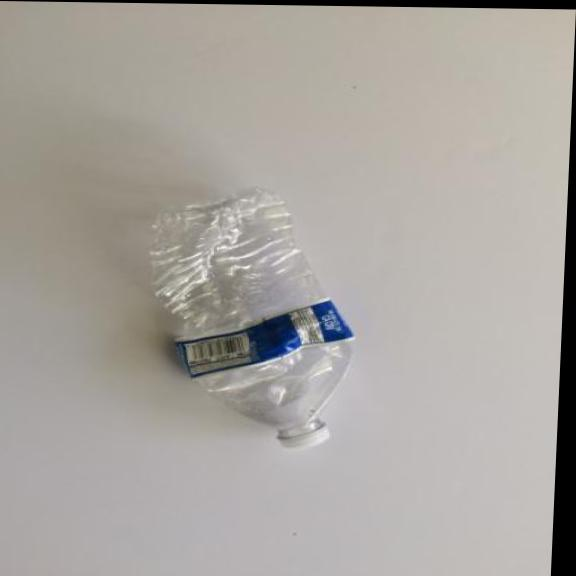Plastik: (123, 181, 377, 460)
